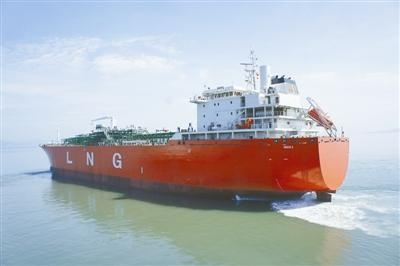Cargoship: (33, 49, 352, 202)
